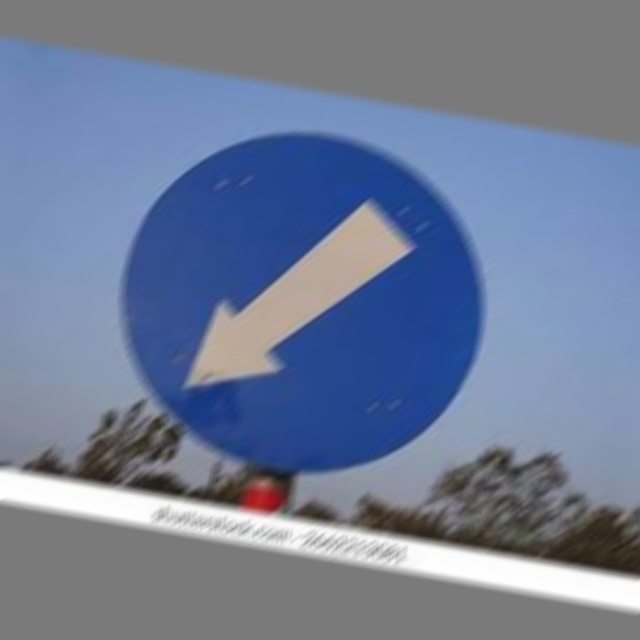Compulsory_Keep_Left: (101, 109, 498, 484)
